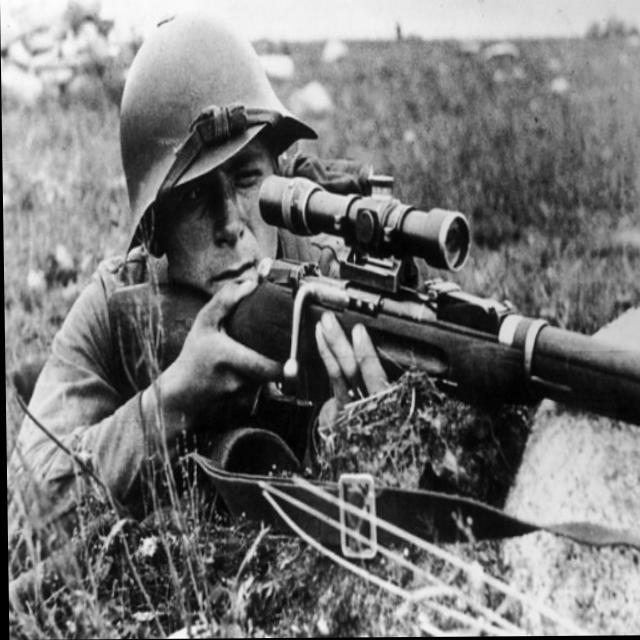other: (29, 12, 343, 500)
